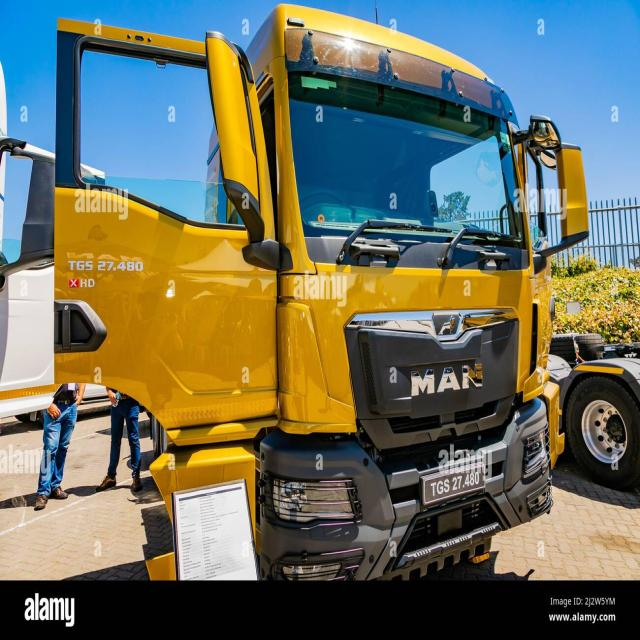Heavy Duty Truck: (187, 2, 593, 578)
